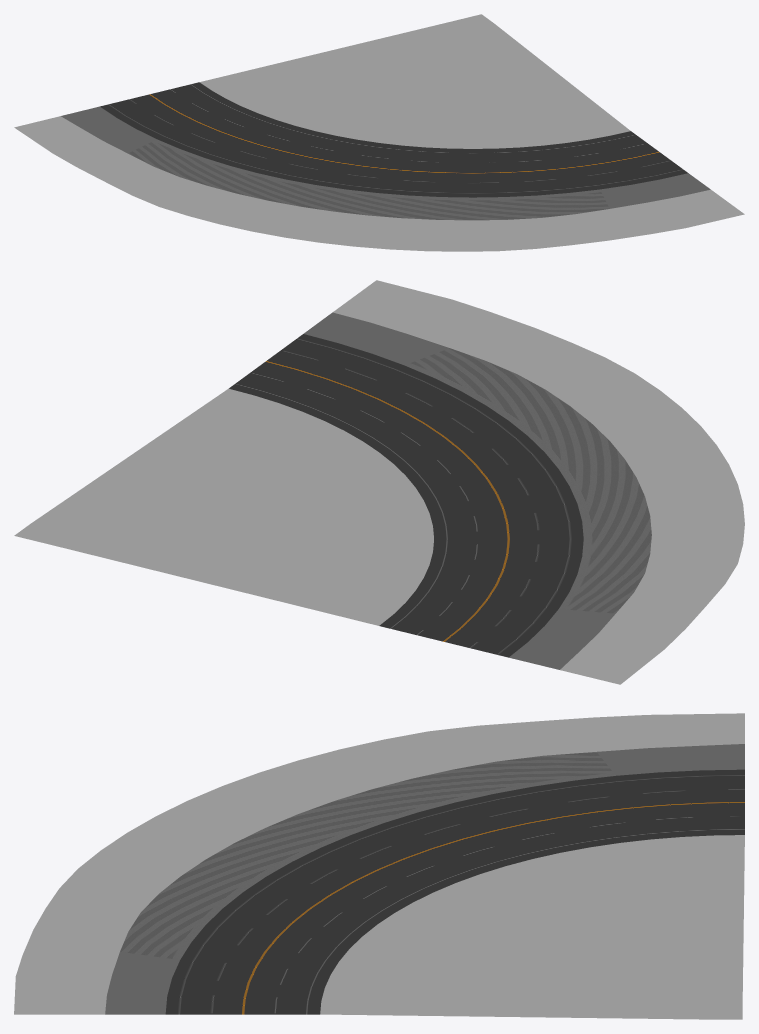
File: Road_turn1.fbx
3 renders of one model, top to bottom at view 1: azimuth 30°, elevation 25°; view 2: azimuth 150°, elevation 25°; view 3: azimuth 270°, elevation 25°, orthographic. The views are drawn at different scales.
Parts seen in each view (by area): view 1: road_turn1_road, road_turn1_roadsideL, road_turn_roadsideR; view 2: road_turn1_road, road_turn1_roadsideL, road_turn_roadsideR; view 3: road_turn1_road, road_turn1_roadsideL, road_turn_roadsideR.
Part boxes in pixels (x1=…): road_turn1_road: x1=61, y1=82, x2=710, y2=220; road_turn1_roadsideL: x1=199, y1=14, x2=630, y2=148; road_turn_roadsideR: x1=14, y1=116, x2=744, y2=251; road_turn1_road: x1=229, y1=312, x2=651, y2=669; road_turn1_roadsideL: x1=14, y1=388, x2=433, y2=625; road_turn_roadsideR: x1=333, y1=280, x2=744, y2=684; road_turn1_road: x1=105, y1=744, x2=744, y2=1014; road_turn1_roadsideL: x1=320, y1=835, x2=744, y2=1019; road_turn_roadsideR: x1=14, y1=713, x2=744, y2=1014.
Size of the model in its own units: 9222 by 0.000122 by 9303.
